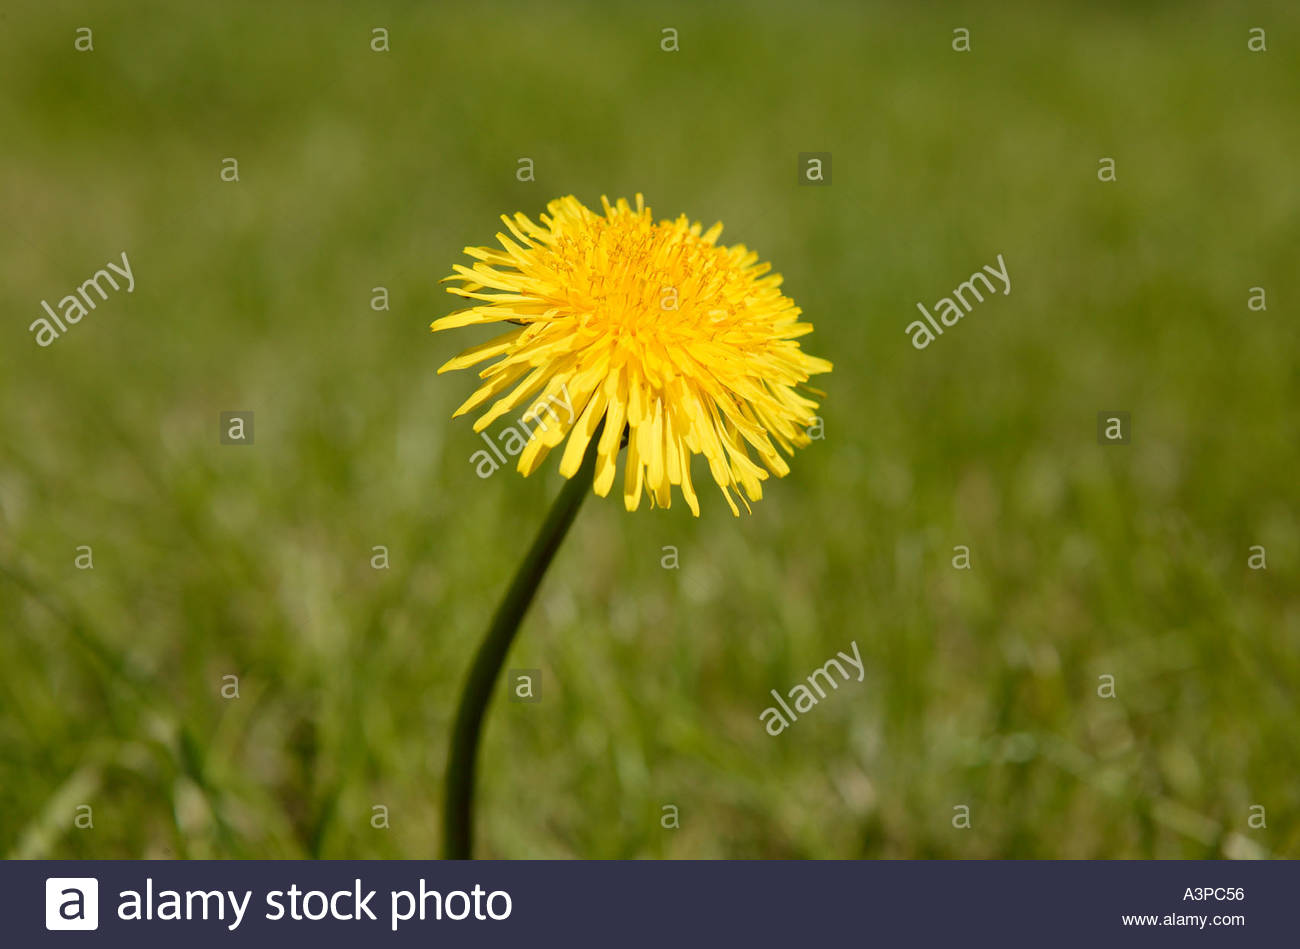dandelion: (421, 186, 854, 537)
